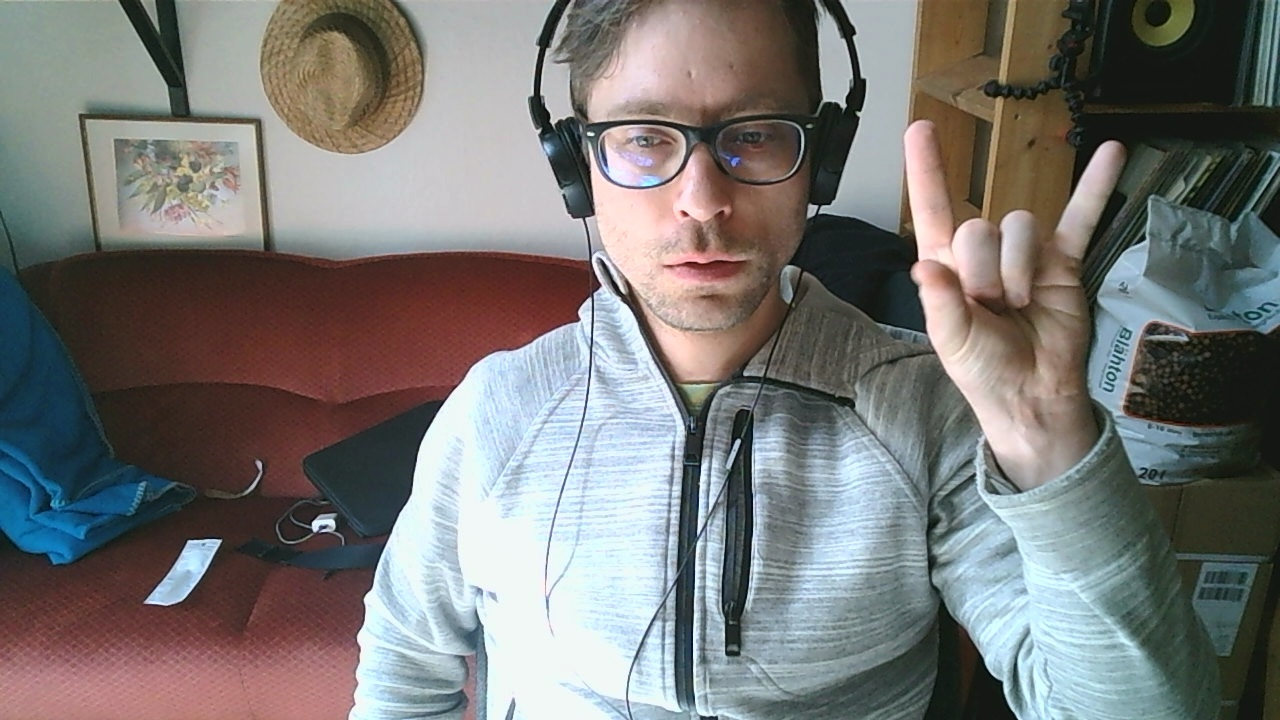iloveyou: (895, 118, 1126, 384)
